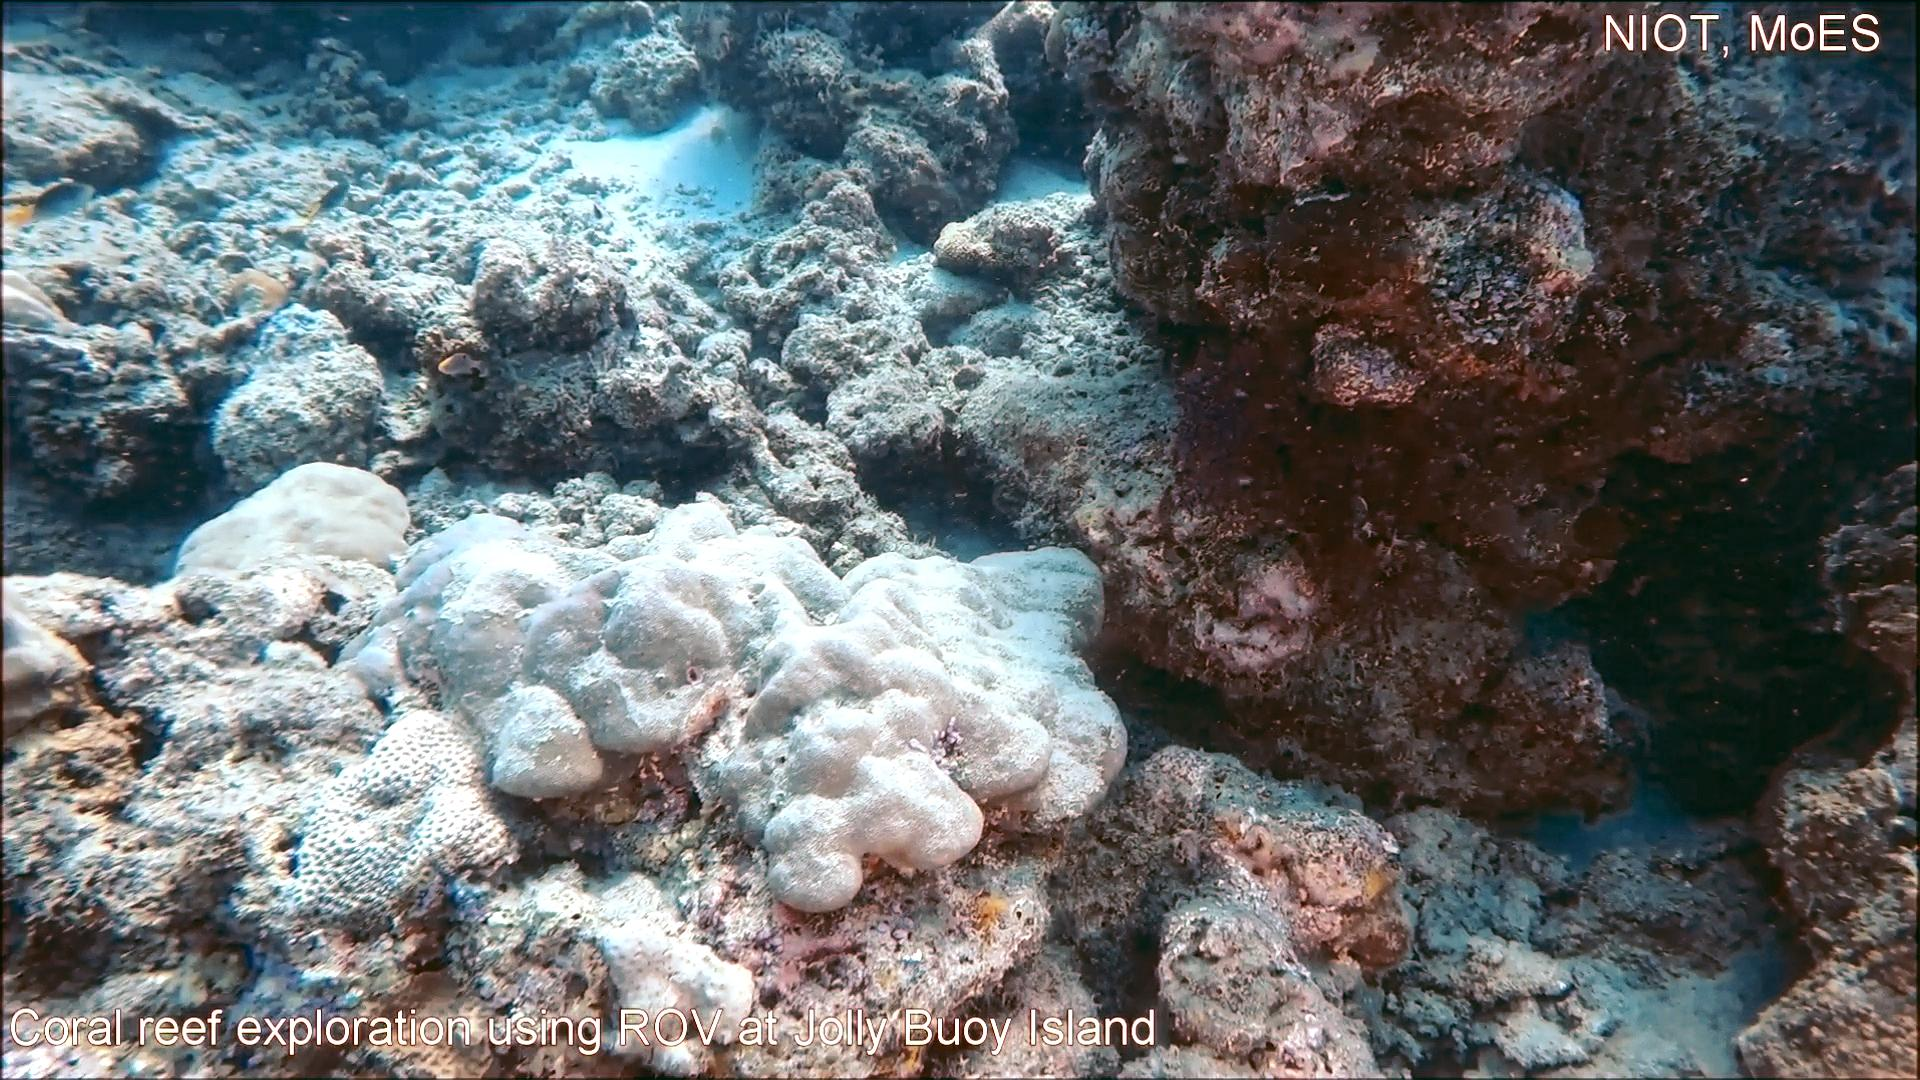Goniastrea-Goniastrea pectinata: (287, 704, 522, 939)
Gorgonian-Purple Plexaura: (1160, 347, 1462, 658)
Porites-Porites pukoensis: (597, 495, 1133, 920)
